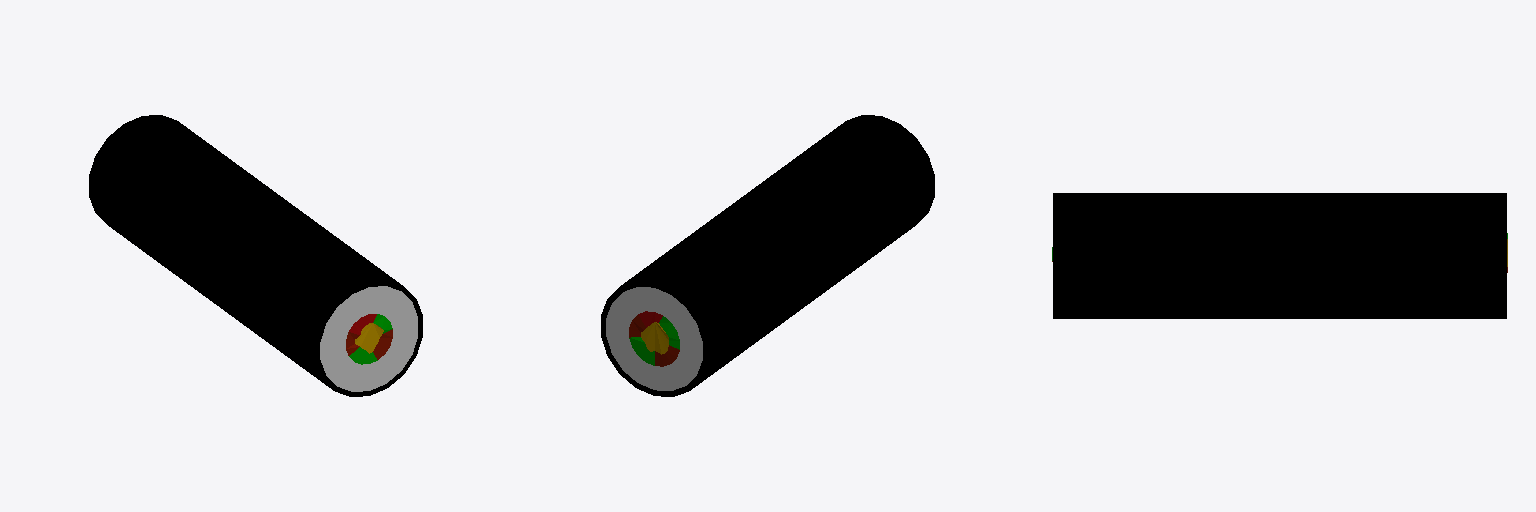
The model's file is ehoumaki.obj.
3 views of the same model, side by side, from view 1: azimuth 30°, elevation 25°; view 2: azimuth 150°, elevation 25°; view 3: azimuth 270°, elevation 25° (orthographic).
Visible parts, largest first — view 1: ehoumaki_body; view 2: ehoumaki_body; view 3: ehoumaki_body.
Part boxes in pixels (left/top/right/bottom): ehoumaki_body: left=89, top=115, right=422, bottom=396; ehoumaki_body: left=601, top=115, right=934, bottom=396; ehoumaki_body: left=1052, top=193, right=1507, bottom=318.
Bounding box in the file's own units: 0.0858 × 0.0871 × 0.3157.